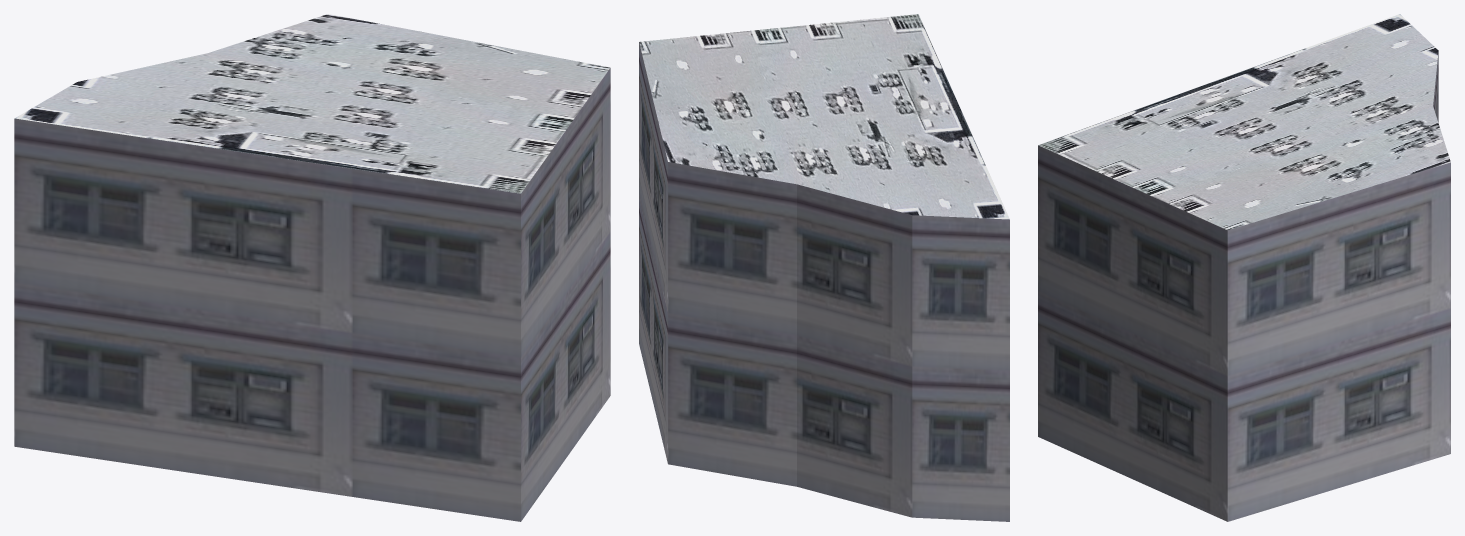
File: ResTex__5238.fbx
3 views of the same model, side by side, from view 1: azimuth 30°, elevation 25°; view 2: azimuth 150°, elevation 25°; view 3: azimuth 270°, elevation 25° (orthographic). The views are drawn at different scales.
Visible parts, largest first — view 1: CityEngineMaterial_1_m, CityEngineMaterial_8_m; view 2: CityEngineMaterial_1_m, CityEngineMaterial_8_m; view 3: CityEngineMaterial_1_m, CityEngineMaterial_8_m.
Part boxes in pixels (x1,y1,x2,y2): CityEngineMaterial_1_m: (14, 68, 610, 521); CityEngineMaterial_8_m: (14, 14, 609, 193); CityEngineMaterial_1_m: (639, 42, 1009, 521); CityEngineMaterial_8_m: (639, 14, 1009, 219); CityEngineMaterial_1_m: (1038, 51, 1450, 521); CityEngineMaterial_8_m: (1038, 14, 1450, 230).
Size of the model in its own units: 9.55 by 6 by 7.7.
2 materials, 2 textured.
